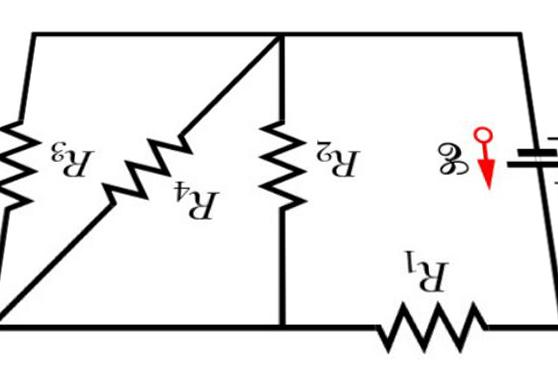resistor: (95, 104, 194, 214), (362, 298, 497, 367), (250, 112, 308, 223), (0, 108, 44, 236)
